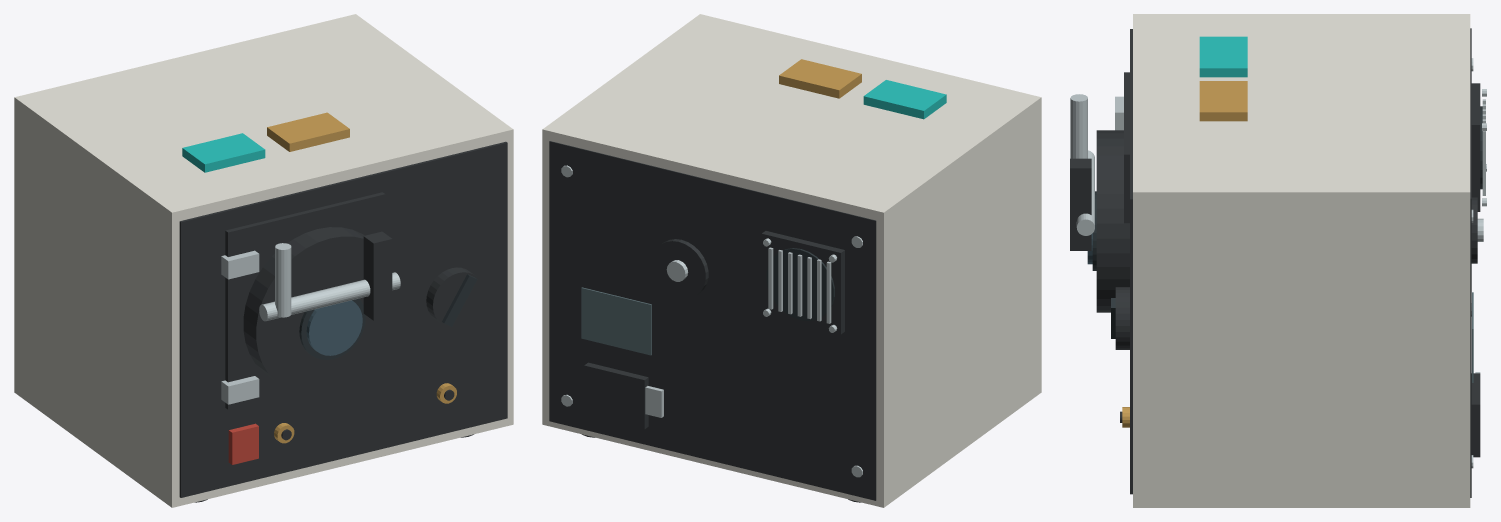
Rendered from pdc32g2-static.glb.
3 renders of one model, left to right at view 1: azimuth 30°, elevation 25°; view 2: azimuth 150°, elevation 25°; view 3: azimuth 270°, elevation 25°, orthographic. The views are drawn at different scales.
Visible parts, largest first — view 1: nominal_housing, inset_front_plate, fixed_door_face, fixed_door_base, fixed_front_handle, fixed_view_window, grid_overlay_target, fixed_front_dial, turn_overlay_target, fixed_crosspiece, fixed_upper_form, decorative_front_rocker (+4 smaller); view 2: nominal_housing, inset_rear_plate, rear_plain_id_plate, rear_inlet_blank, rear_fan_frame, rear_fan_recess, rear_circle_blank, grid_overlay_target, turn_overlay_target, rear_blind_fuse_caps; view 3: nominal_housing, fixed_door_face, grid_overlay_target, turn_overlay_target, fixed_front_handle, inset_front_plate, rear_fan_frame, fixed_upper_form, fixed_front_dial, inset_rear_plate, fixed_door_base, rear_inlet_blank (+1 smaller).
Boxes of the visible parts, x1,y1,x2,y2 form: nominal_housing: [14, 14, 513, 507]; inset_front_plate: [179, 141, 507, 497]; fixed_door_face: [243, 227, 404, 394]; fixed_door_base: [225, 192, 385, 409]; fixed_front_handle: [363, 231, 392, 320]; fixed_view_window: [306, 300, 362, 355]; grid_overlay_target: [182, 133, 265, 172]; fixed_front_dial: [426, 267, 483, 326]; turn_overlay_target: [267, 112, 349, 151]; fixed_crosspiece: [259, 272, 400, 321]; fixed_upper_form: [275, 243, 291, 317]; decorative_front_rocker: [228, 423, 258, 464]; nominal_housing: [542, 14, 1041, 507]; inset_rear_plate: [549, 141, 876, 500]; rear_plain_id_plate: [581, 287, 651, 355]; rear_inlet_blank: [584, 362, 648, 429]; rear_fan_frame: [761, 231, 844, 334]; rear_fan_recess: [766, 248, 834, 320]; rear_circle_blank: [652, 239, 708, 298]; grid_overlay_target: [863, 80, 946, 119]; turn_overlay_target: [779, 59, 861, 98]; rear_blind_fuse_caps: [645, 386, 663, 417]; nominal_housing: [1133, 14, 1470, 507]; fixed_door_face: [1096, 130, 1129, 312]; grid_overlay_target: [1199, 36, 1247, 77]; turn_overlay_target: [1199, 81, 1247, 121]; fixed_front_handle: [1070, 158, 1091, 250]; inset_front_plate: [1130, 29, 1132, 494]; rear_fan_frame: [1471, 83, 1480, 211]; fixed_upper_form: [1070, 94, 1087, 158]; fixed_front_dial: [1115, 287, 1129, 349]; inset_rear_plate: [1470, 28, 1471, 497]; fixed_door_base: [1124, 72, 1129, 223]; rear_inlet_blank: [1471, 373, 1480, 457].
Bounding box in the file's own units: 0.254 × 0.223 × 0.251.
